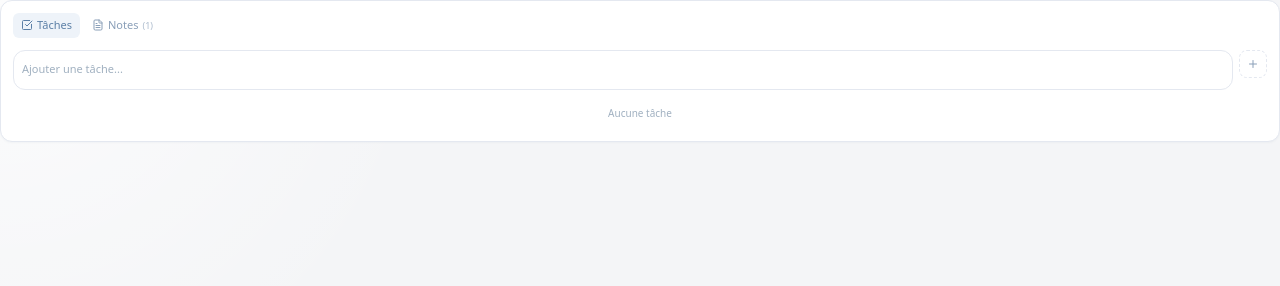
Test case: TasksNotes — Notes tab › toggles drawer open/closed
What coordinates should you click on to do the following:
click the button "Notes (1)"
I would click on:
 (122, 25)
Its box is top-left (84, 13), bottom-right (161, 38).
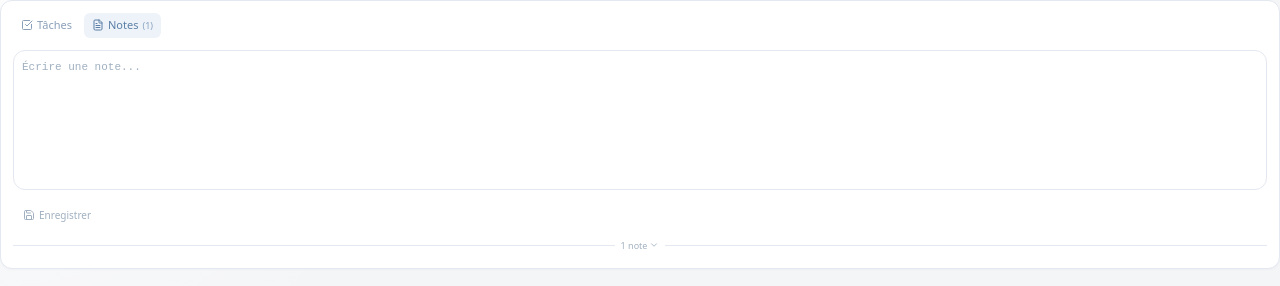
What coordinates should you click on to do the following:
click the button with aria-label "notes sauvegardées"
I would click on:
 (640, 245)
Its box is top-left (13, 234), bottom-right (1267, 256).
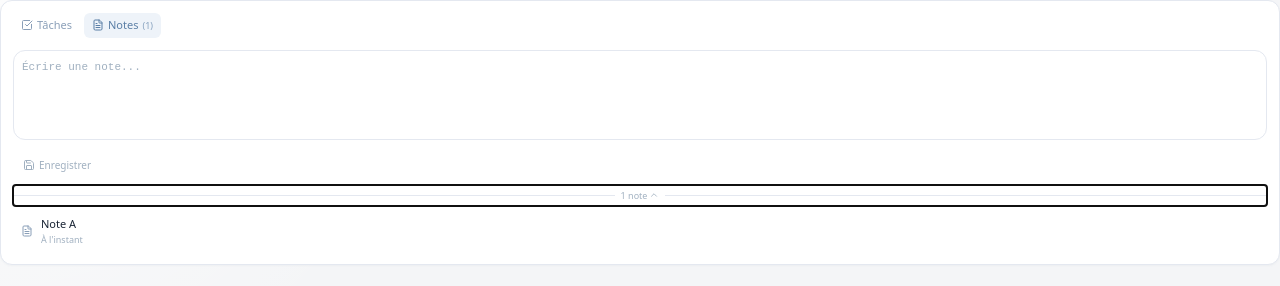
expect the text "Note A" is shown: met, box top-left (41, 216), bottom-right (76, 231)
